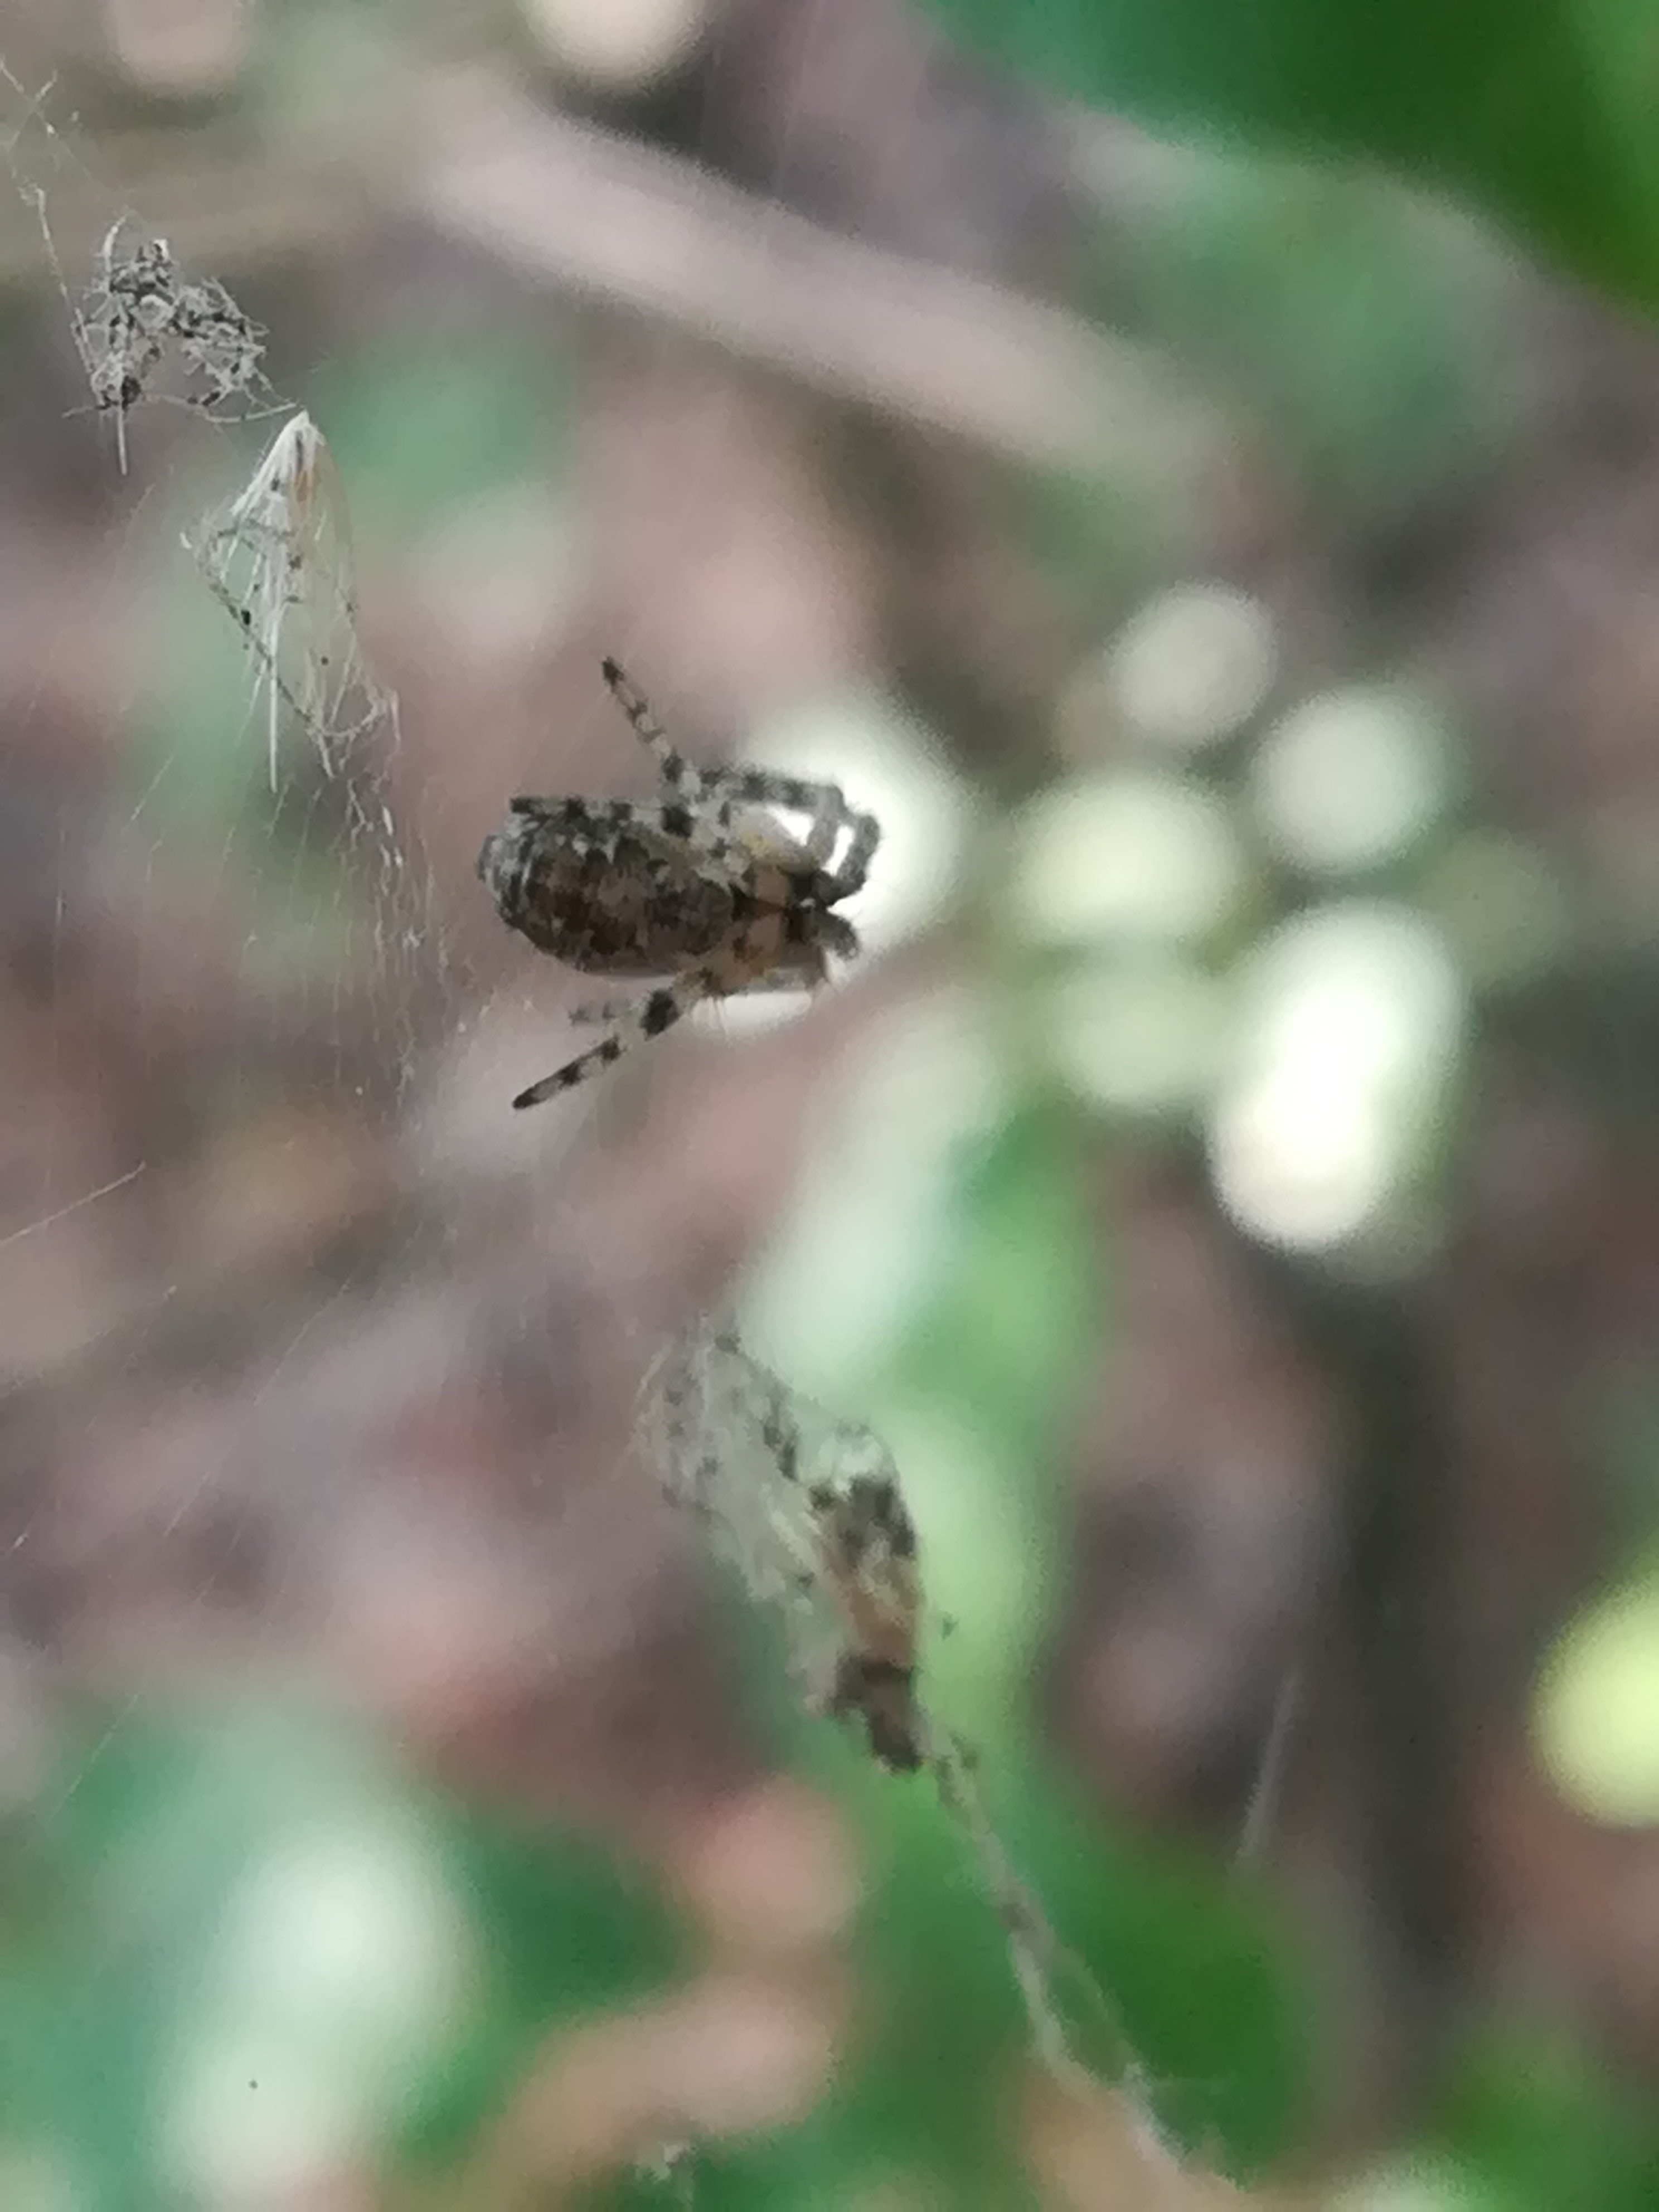spider: (415, 604, 955, 1148)
